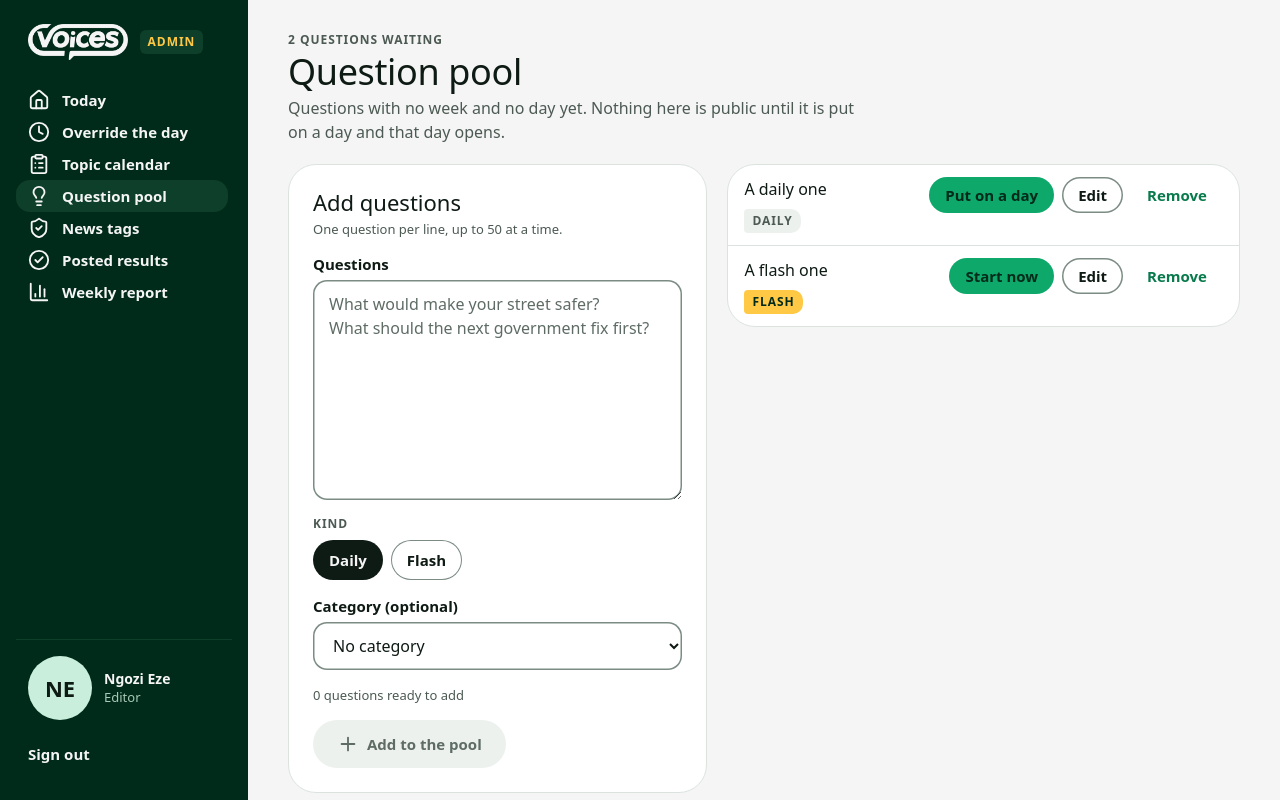
Test: K4: the Question pool page › edit changes the text; remove asks first and closes the question; a Flash one starts now with no week
Click the button with aria-label "Edit question" at (1093, 195), box [1062,177,1123,213]
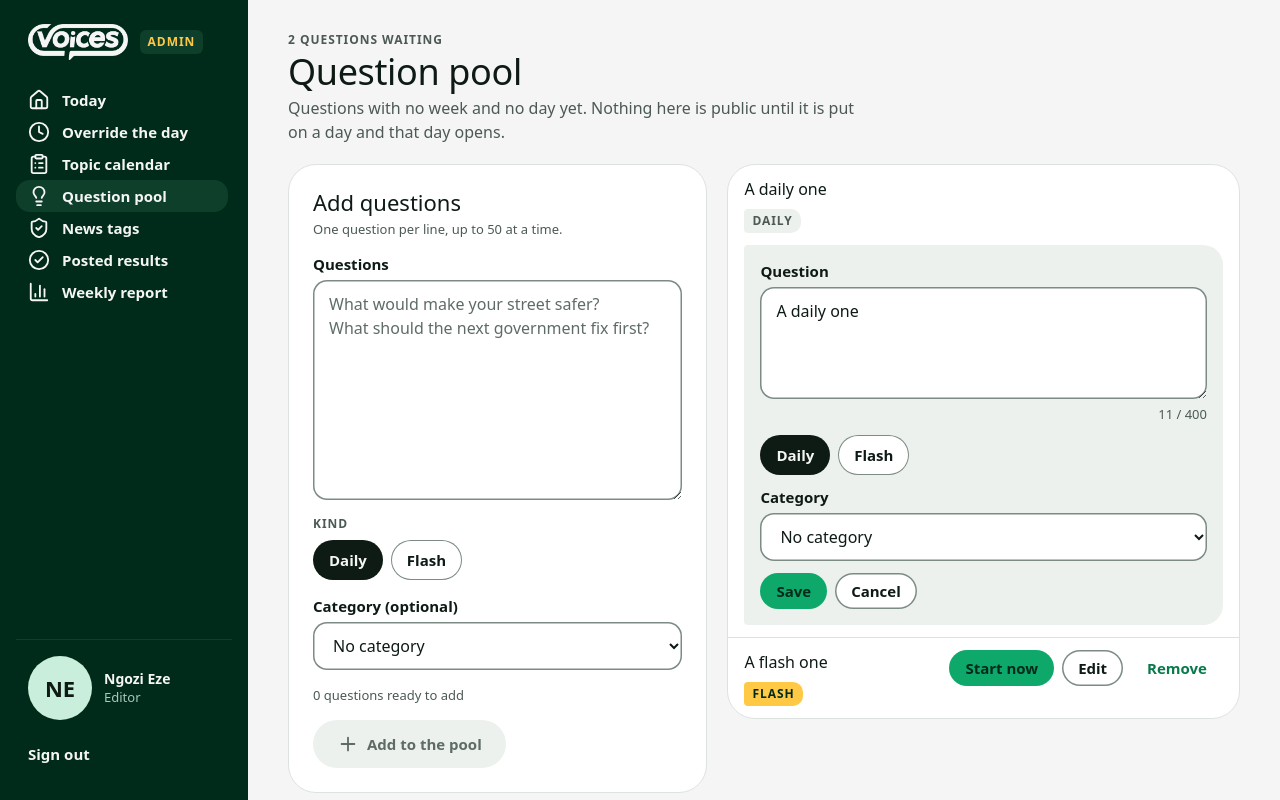
Replace the text in the text box labelled "Question" with "A daily one, reworded" at (984, 343), box [760,287,1207,399]
Click the button "Save" at (794, 591), box [760,573,827,609]
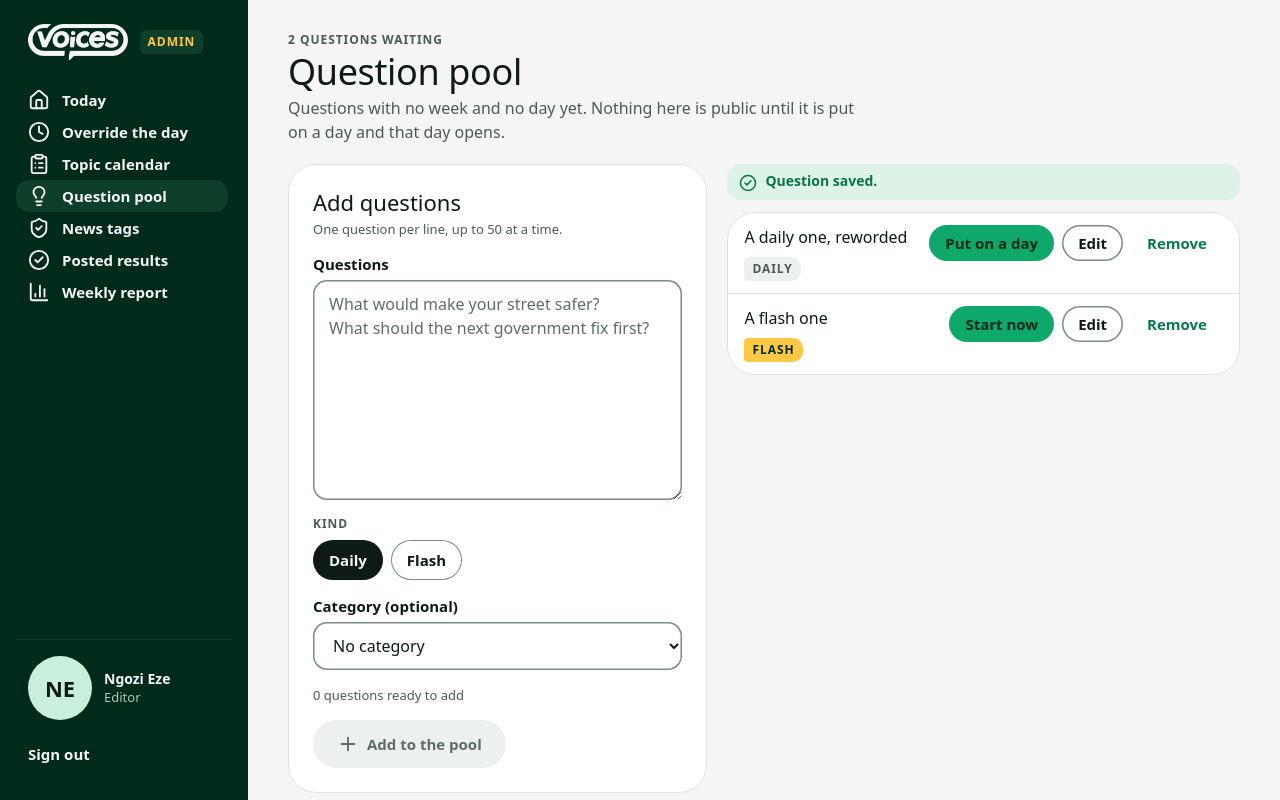
Expected: the text "Question saved." is shown, [765,172,877,190]
Click the button "Start now" at (1002, 324), box [949,306,1054,342]
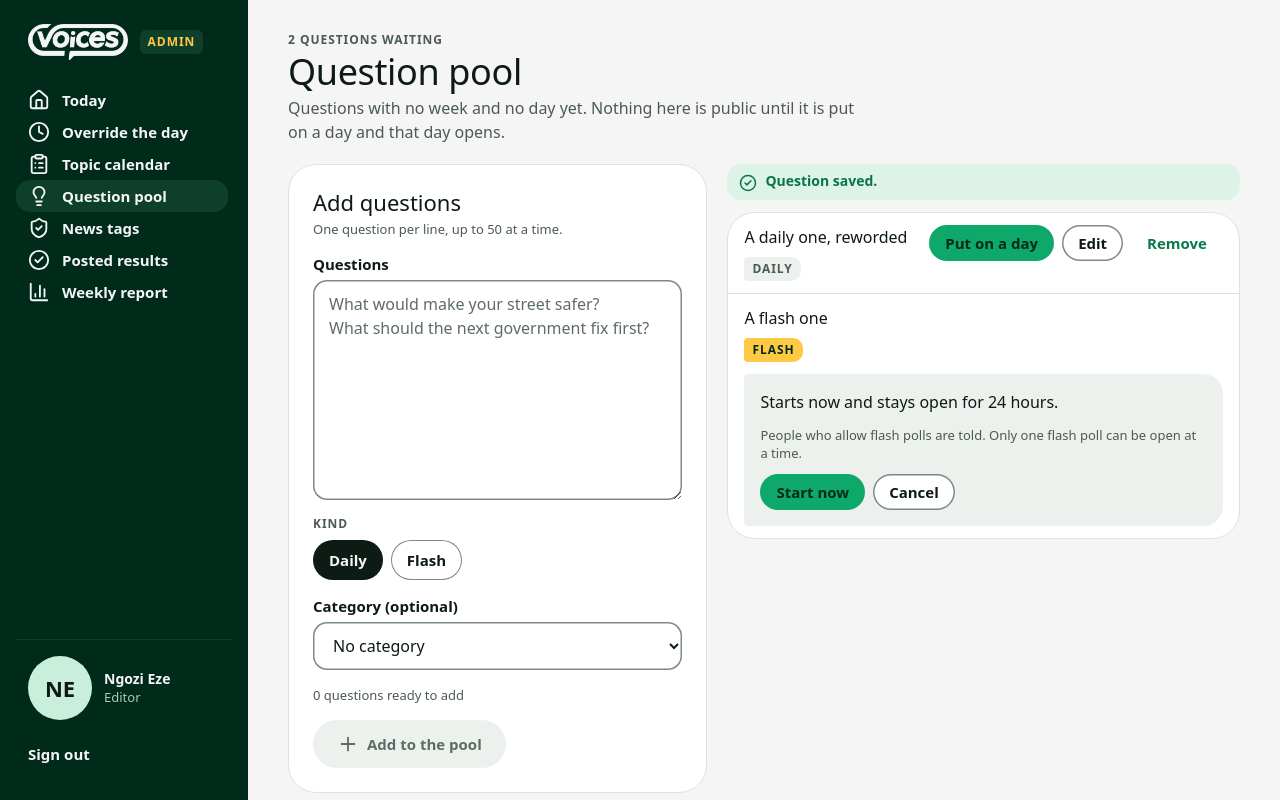
Click the button "Start now" at (813, 492), box [760,474,865,510]
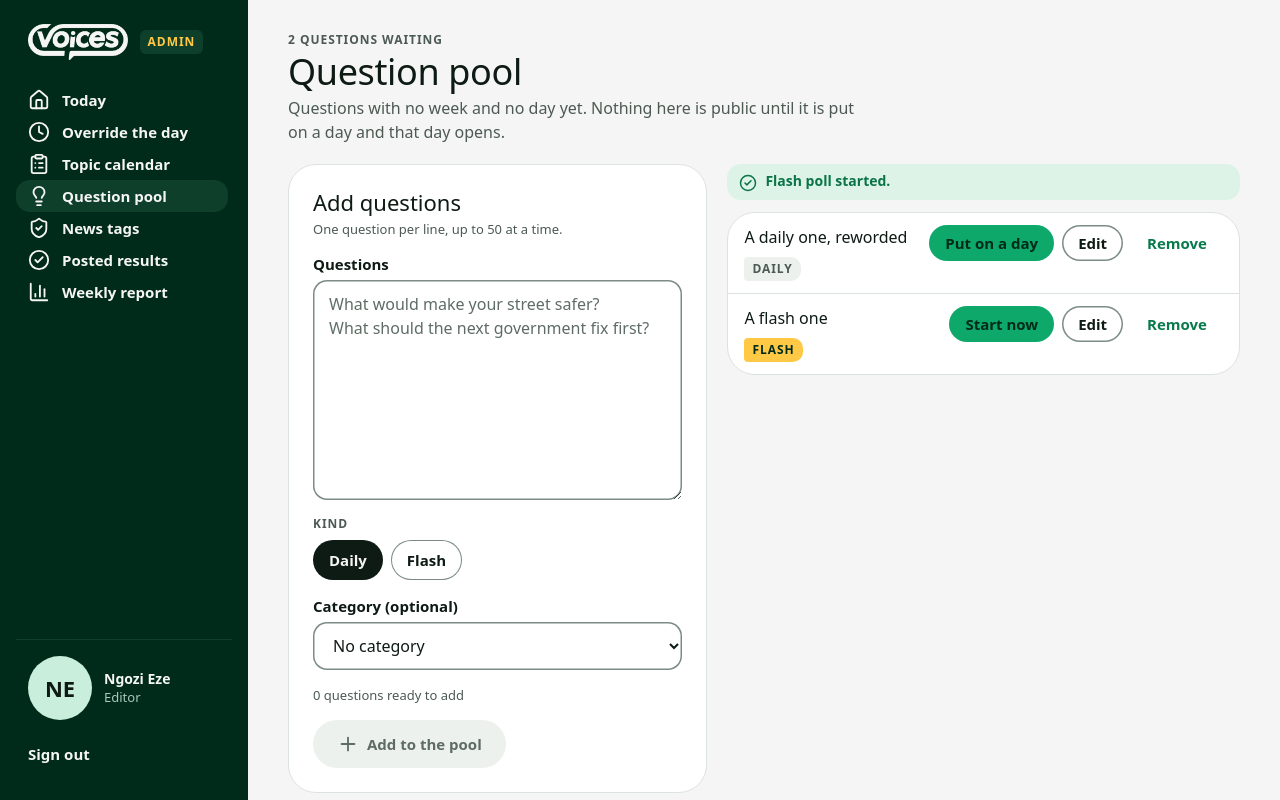
Expected: the text "Flash poll started." is shown, [765,172,890,190]
Click the button with aria-label "Remove question" at (1177, 243), box [1131,225,1223,261]
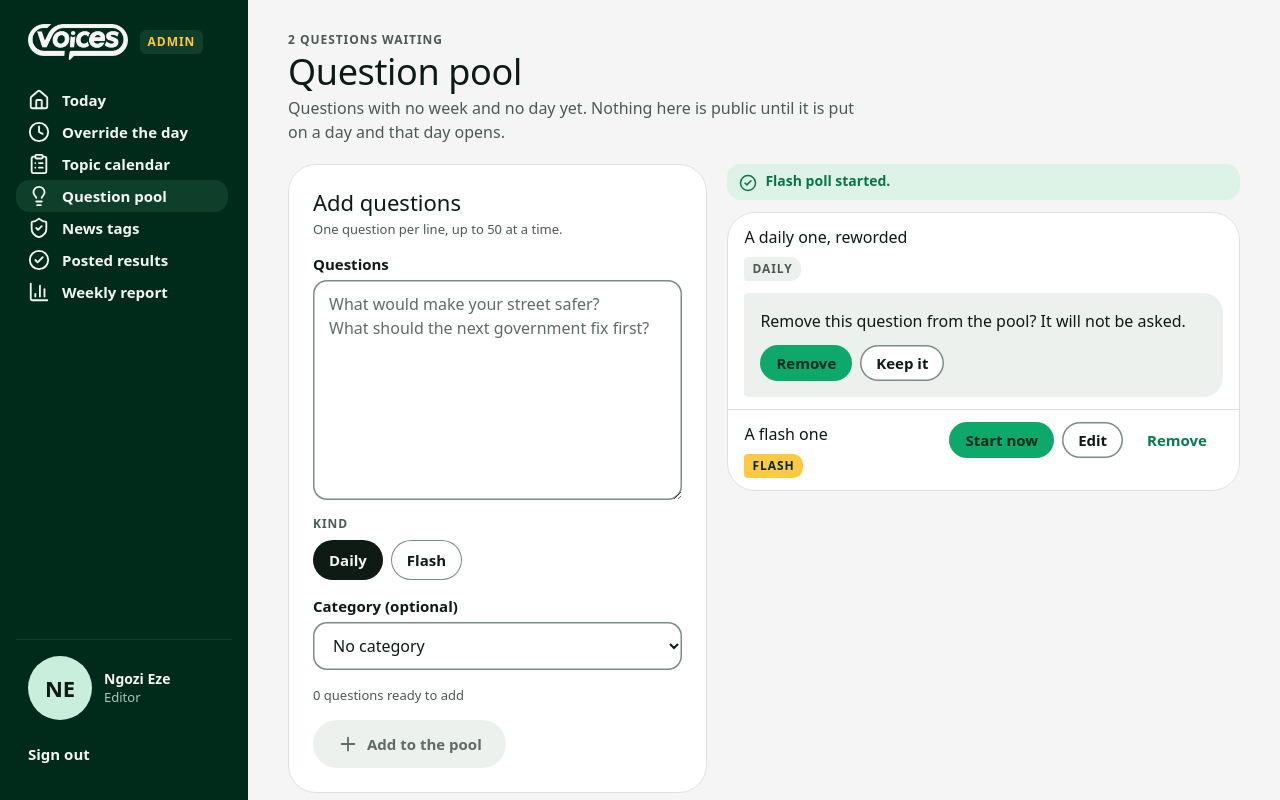
Expected: the text "Remove this question from the pool? It will not be asked." is shown, [760,309,1207,333]
Click the button "Remove" below "A daily one, reworded" at (806, 363), box [760,345,852,381]
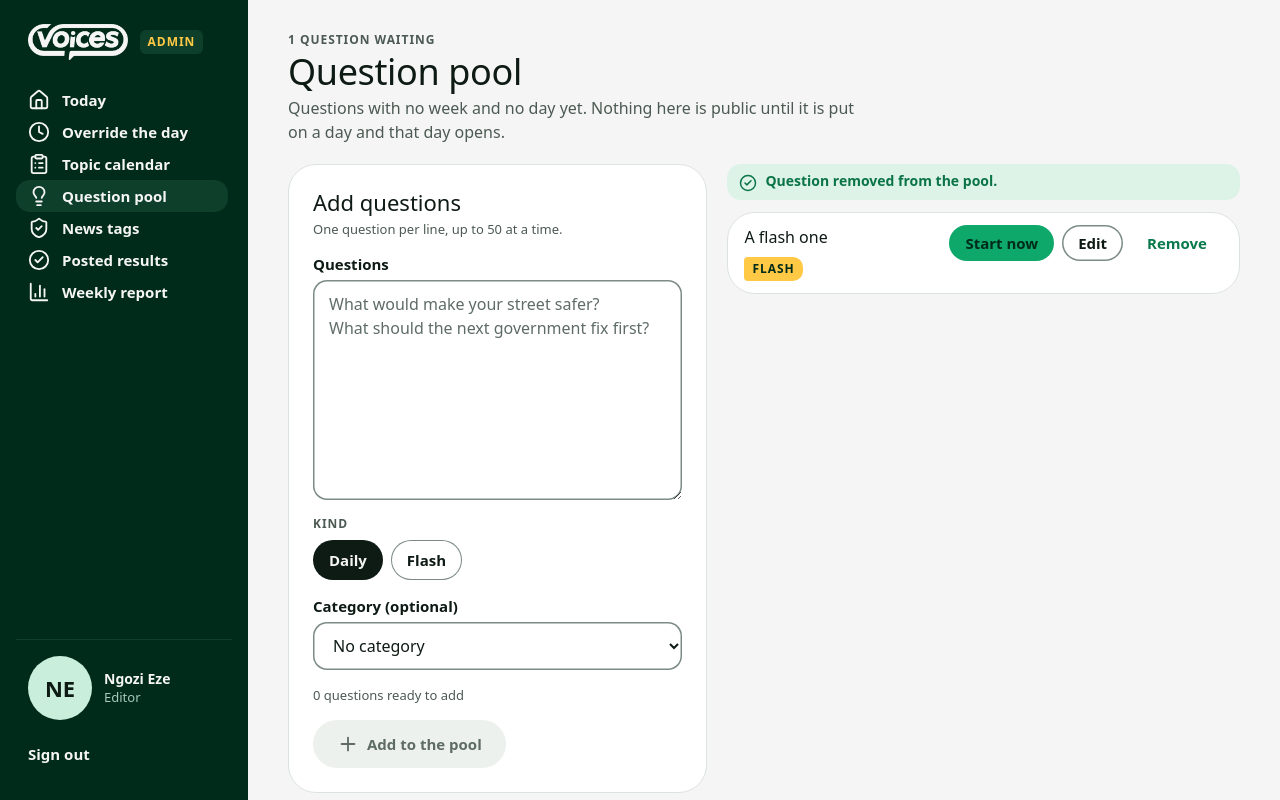
Expected: the text "Question removed from the pool." is shown, [765,172,997,190]
